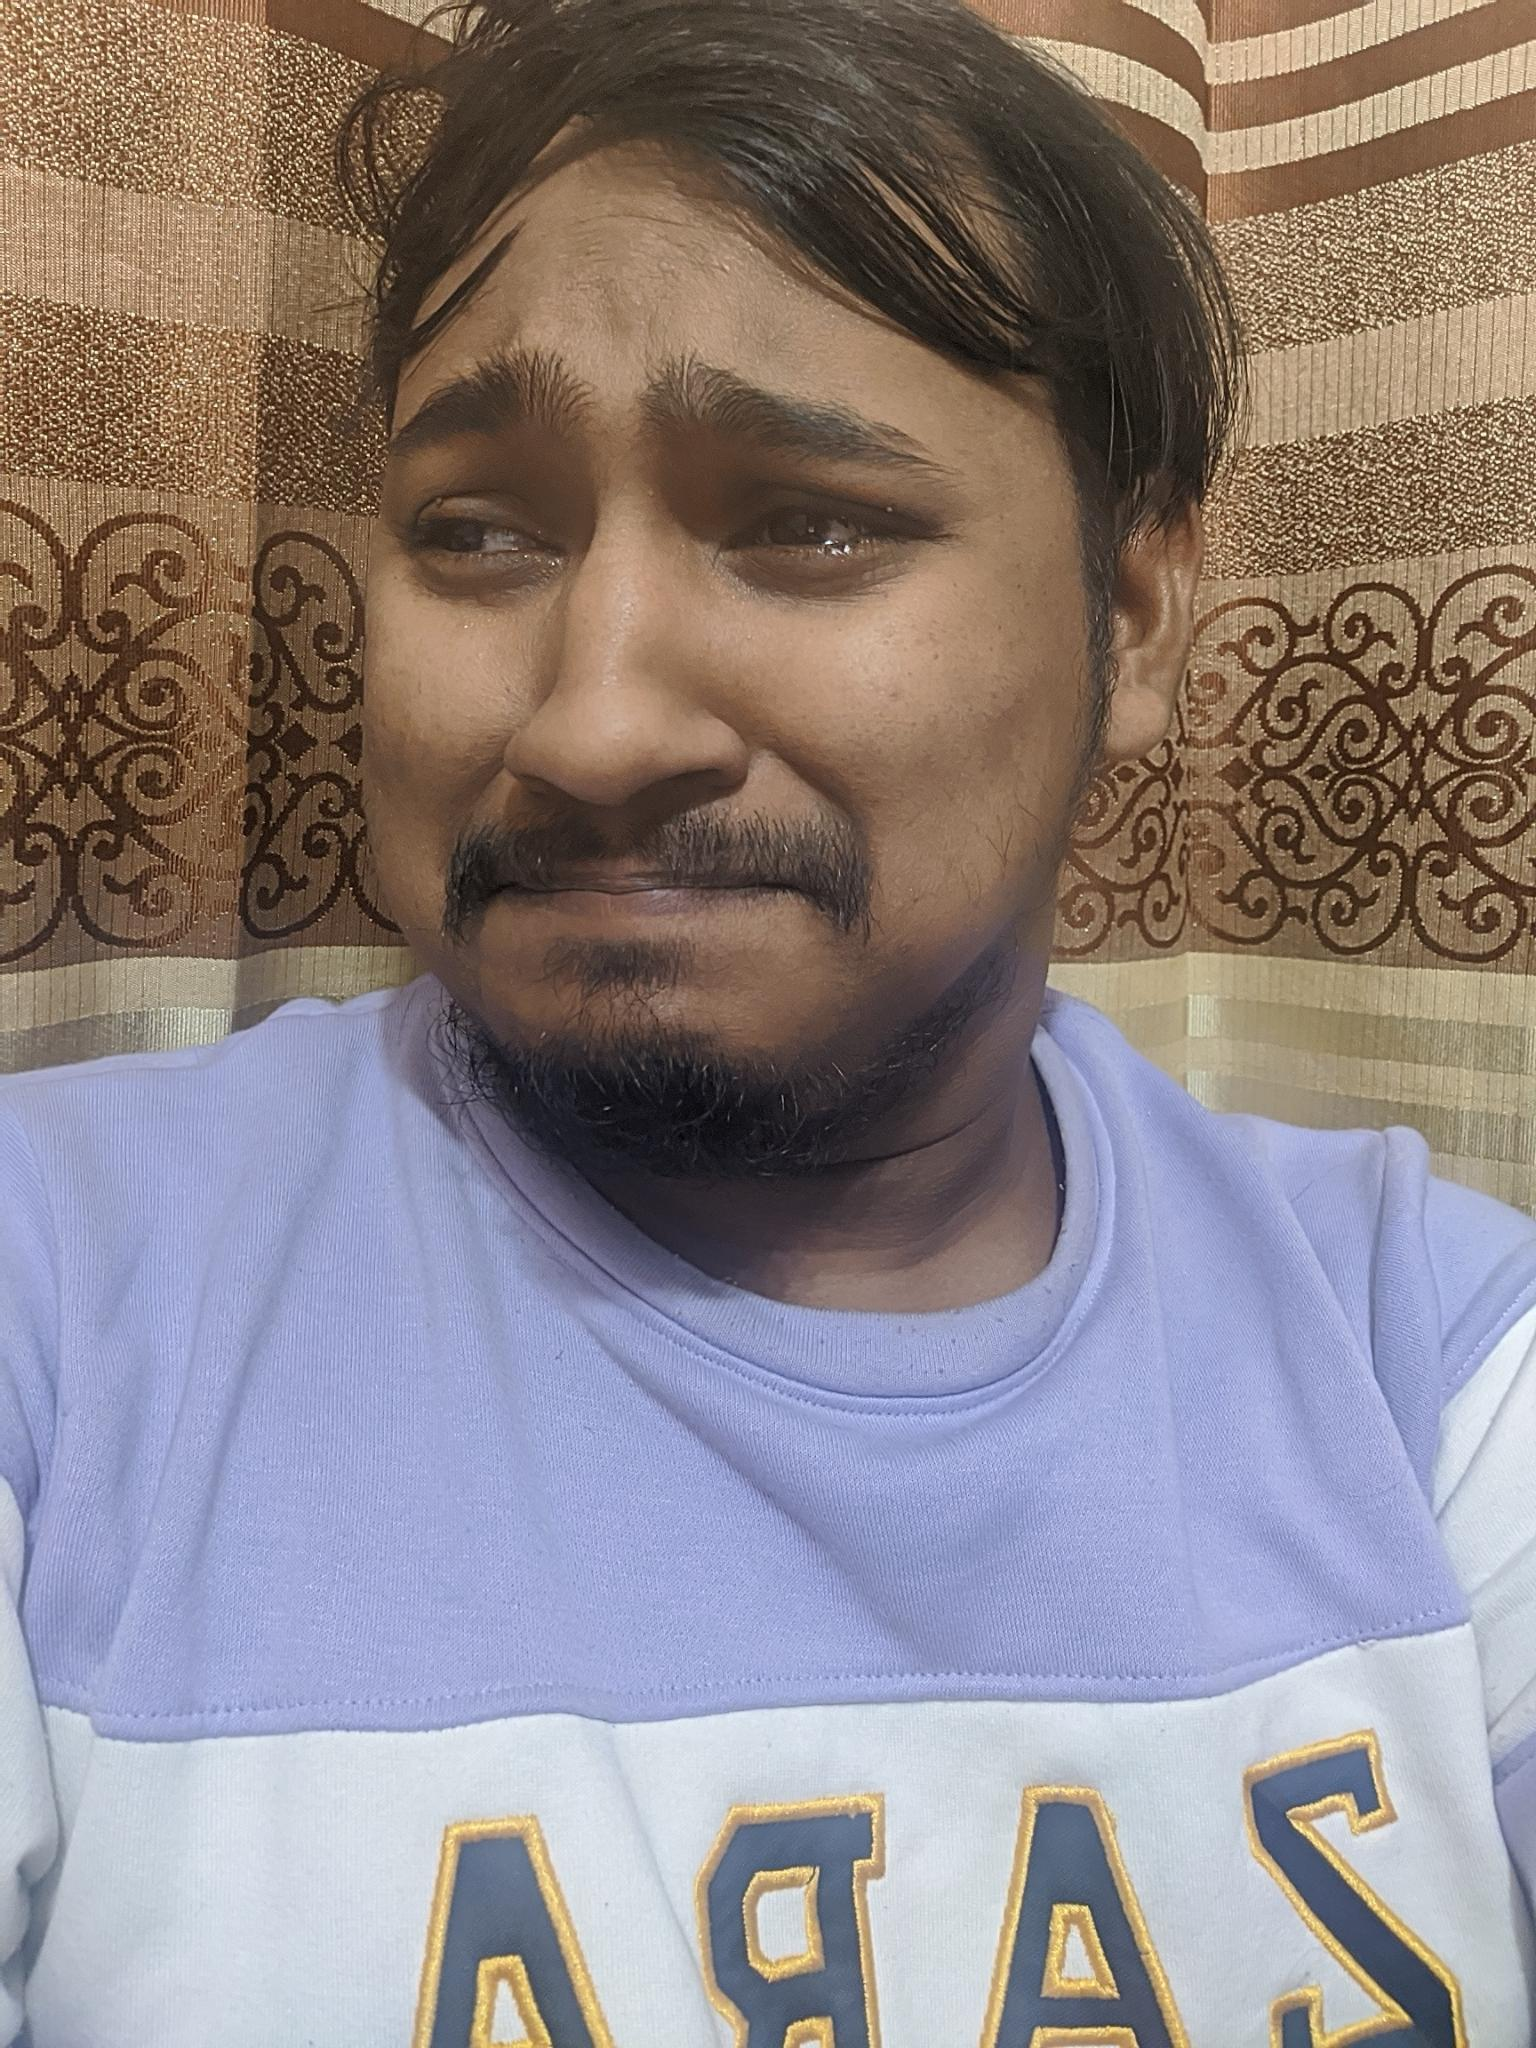Sad: (326, 277, 1016, 1155)
